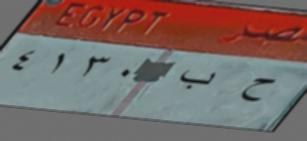0: (114, 62, 134, 81)
1: (45, 45, 68, 78)
3: (80, 52, 112, 82)
4: (8, 47, 38, 77)
7aa: (237, 70, 277, 109)
baa: (179, 62, 216, 98)
